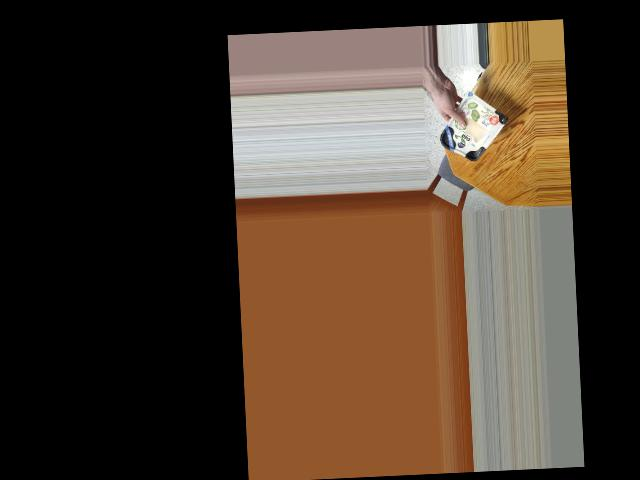cheese: (436, 101, 504, 162)
